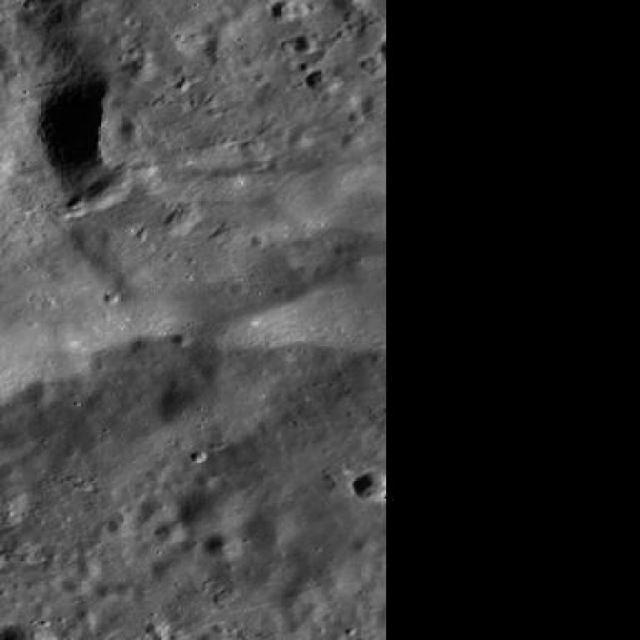crater: (162, 367, 266, 445), (178, 488, 245, 540), (242, 512, 295, 550), (353, 470, 401, 506), (82, 177, 126, 211), (0, 484, 31, 527), (137, 493, 177, 522), (160, 208, 198, 235), (204, 534, 241, 560), (124, 56, 160, 82), (153, 520, 187, 546), (306, 69, 339, 94), (150, 558, 182, 582), (22, 384, 53, 407), (0, 434, 31, 457), (286, 129, 314, 149), (62, 576, 90, 596), (75, 559, 103, 579), (66, 194, 92, 214), (271, 0, 297, 20), (352, 536, 378, 556), (292, 36, 317, 55), (339, 132, 364, 150), (193, 470, 218, 488), (240, 139, 263, 156), (118, 122, 142, 138)
